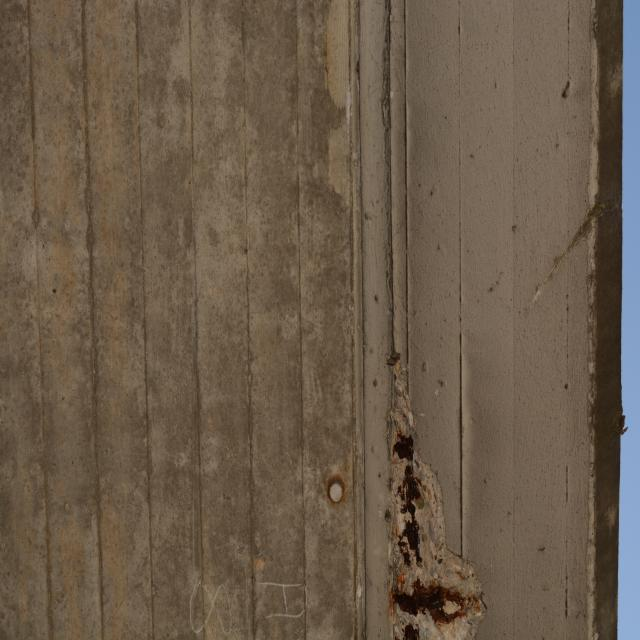corrosion: (376, 409, 478, 640), (326, 478, 354, 518)
